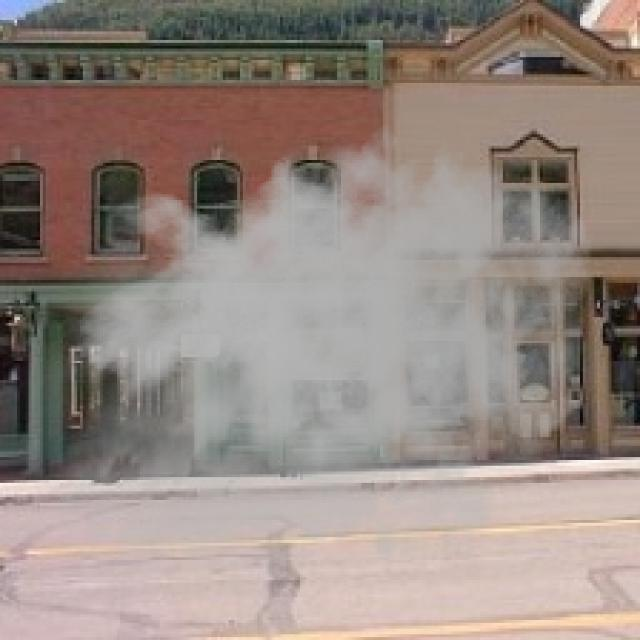smoke: (26, 108, 594, 623)
